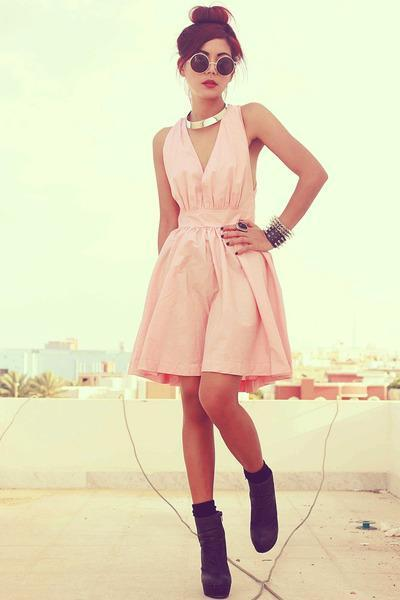dress: (143, 104, 284, 379)
shoe: (192, 468, 277, 598)
sunglass: (180, 47, 208, 72)
